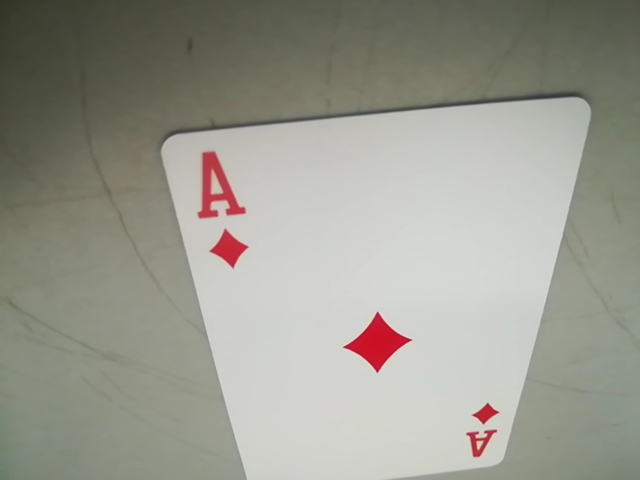fk a: (182, 148, 244, 225), (461, 401, 504, 461)
